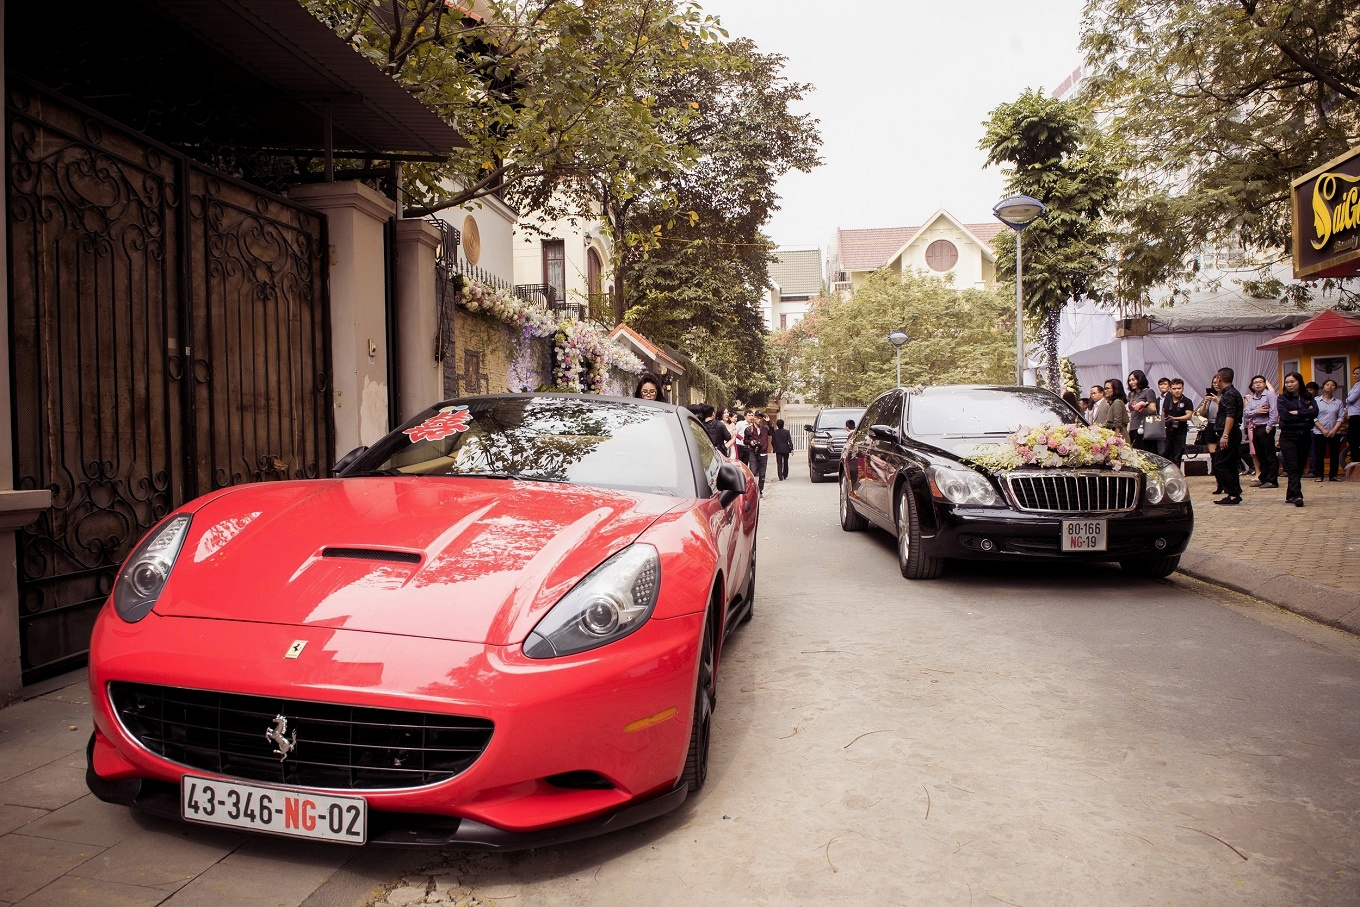plate: (180, 770, 373, 856), (1057, 519, 1112, 555)
